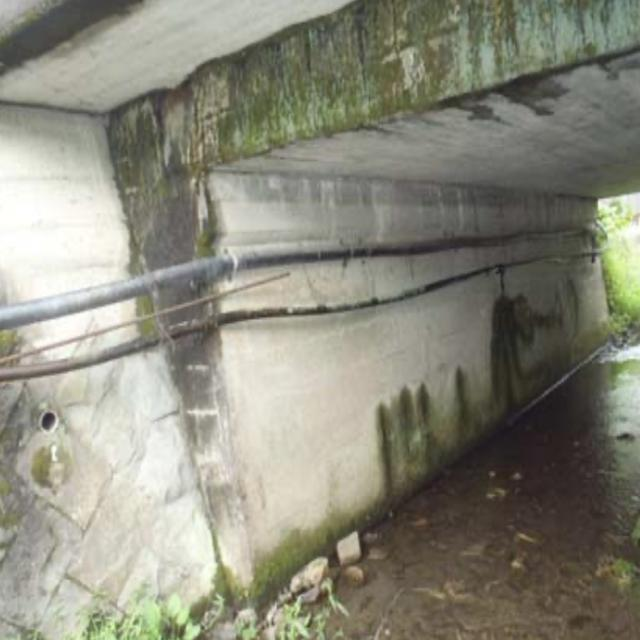leakage: (238, 21, 513, 150), (114, 99, 223, 400)
